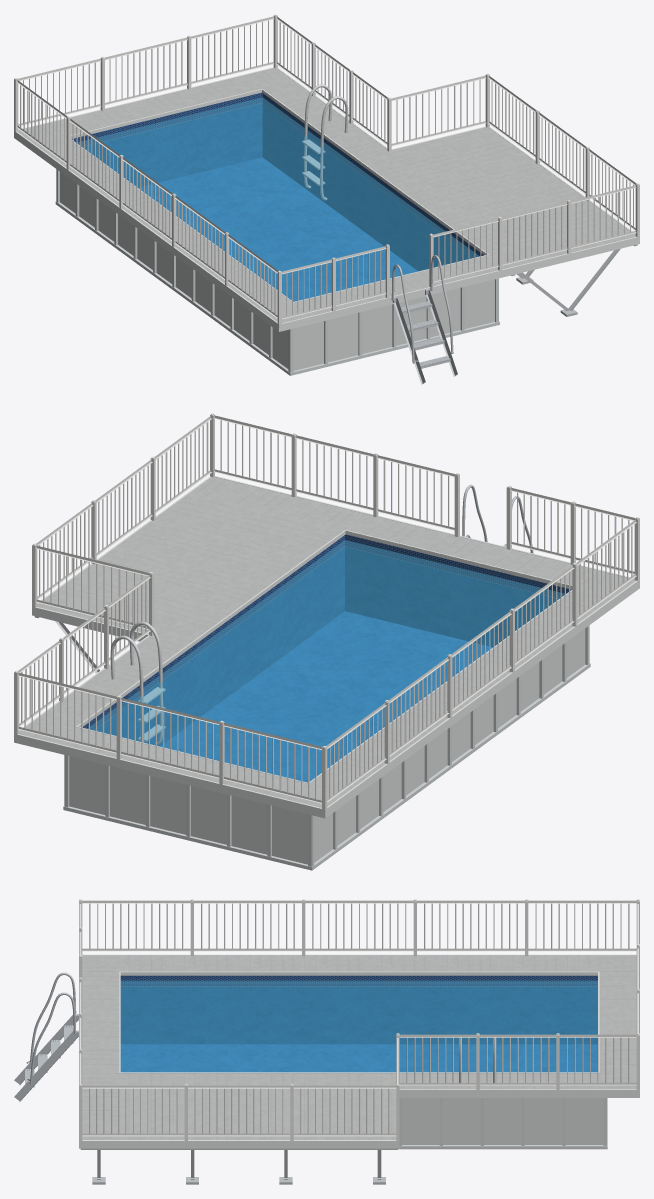
Rendered from kayak-pool-12x24-white-l-ag-fence.f2f69e6de9.glb.
3 views of the same model, one above another, from view 1: azimuth 30°, elevation 25°; view 2: azimuth 150°, elevation 25°; view 3: azimuth 270°, elevation 25° (orthographic). The views are drawn at different scales.
Parts seen in each view (by area): view 1: water, deck, fence, liner_wall, liner_floor, wall, fascia, upright, ladder, steel, stud; view 2: water, deck, fence, liner_wall, liner_floor, wall, fascia, upright, steel; view 3: water, deck, liner_wall, fence, liner_floor, fascia, wall, ladder, upright, stud.
Boxes of the visible parts, x1,y1,x2,y2 form: water: (77,97,479,301); deck: (17,68,635,327); fence: (14,14,639,331); liner_wall: (71,92,483,271); liner_floor: (138,157,417,301); wall: (60,172,494,370); fascia: (14,67,639,331); upright: (55,169,499,375); ladder: (391,255,457,384); steel: (302,84,348,200); stud: (511,244,637,316); water: (87,540,564,782); deck: (19,477,635,807); fence: (14,413,639,809); liner_wall: (83,534,571,746); liner_floor: (160,611,492,782); wall: (69,628,585,864); fascia: (14,476,639,818); upright: (63,625,590,870); steel: (110,621,165,745); water: (120,980,597,1072); deck: (82,955,636,1139); liner_wall: (120,975,597,1044); fence: (79,899,639,1140); liner_floor: (120,1044,597,1072); fascia: (79,954,639,1148); wall: (402,1098,603,1144); ladder: (14,972,78,1101); upright: (398,1098,607,1149); stud: (80,1148,397,1184).
Bounding box in the file's own units: 6.71 × 2.15 × 9.52.
11 materials, 3 textured.
